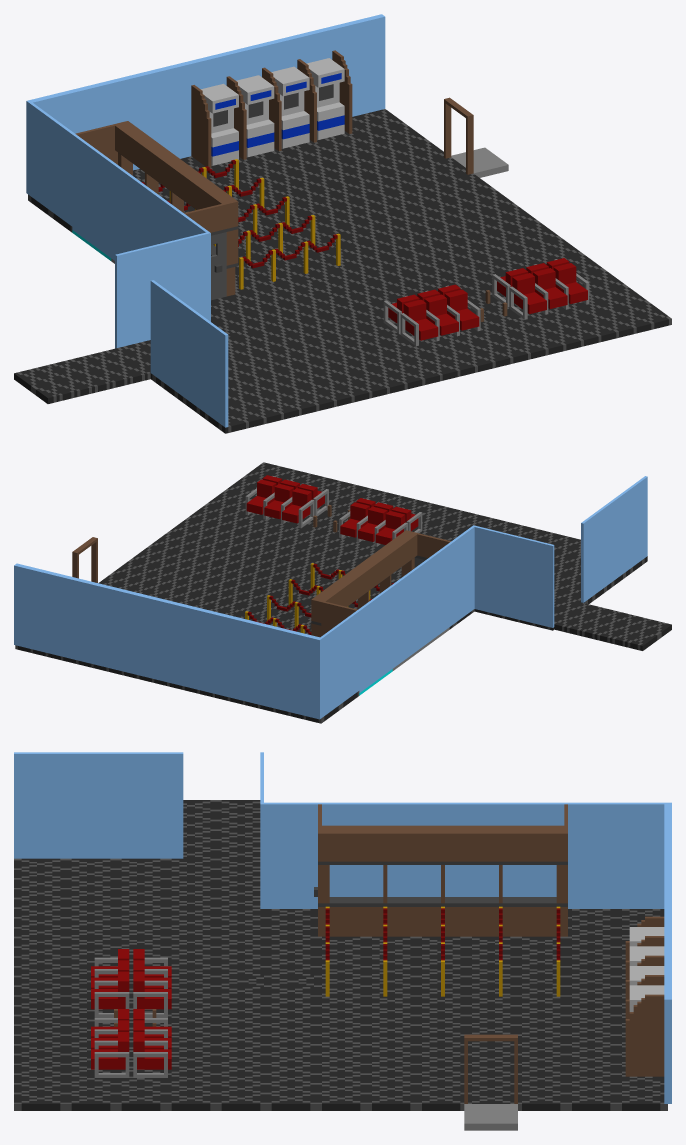
Rendered from bankInside.obj.
3 renders of one model, top to bottom at view 1: azimuth 30°, elevation 25°; view 2: azimuth 150°, elevation 25°; view 3: azimuth 270°, elevation 25°, orthographic. The views are drawn at different scales.
Size of the model in its own units: 19.9 by 3.2 by 17.1.
1 material, 1 textured.
